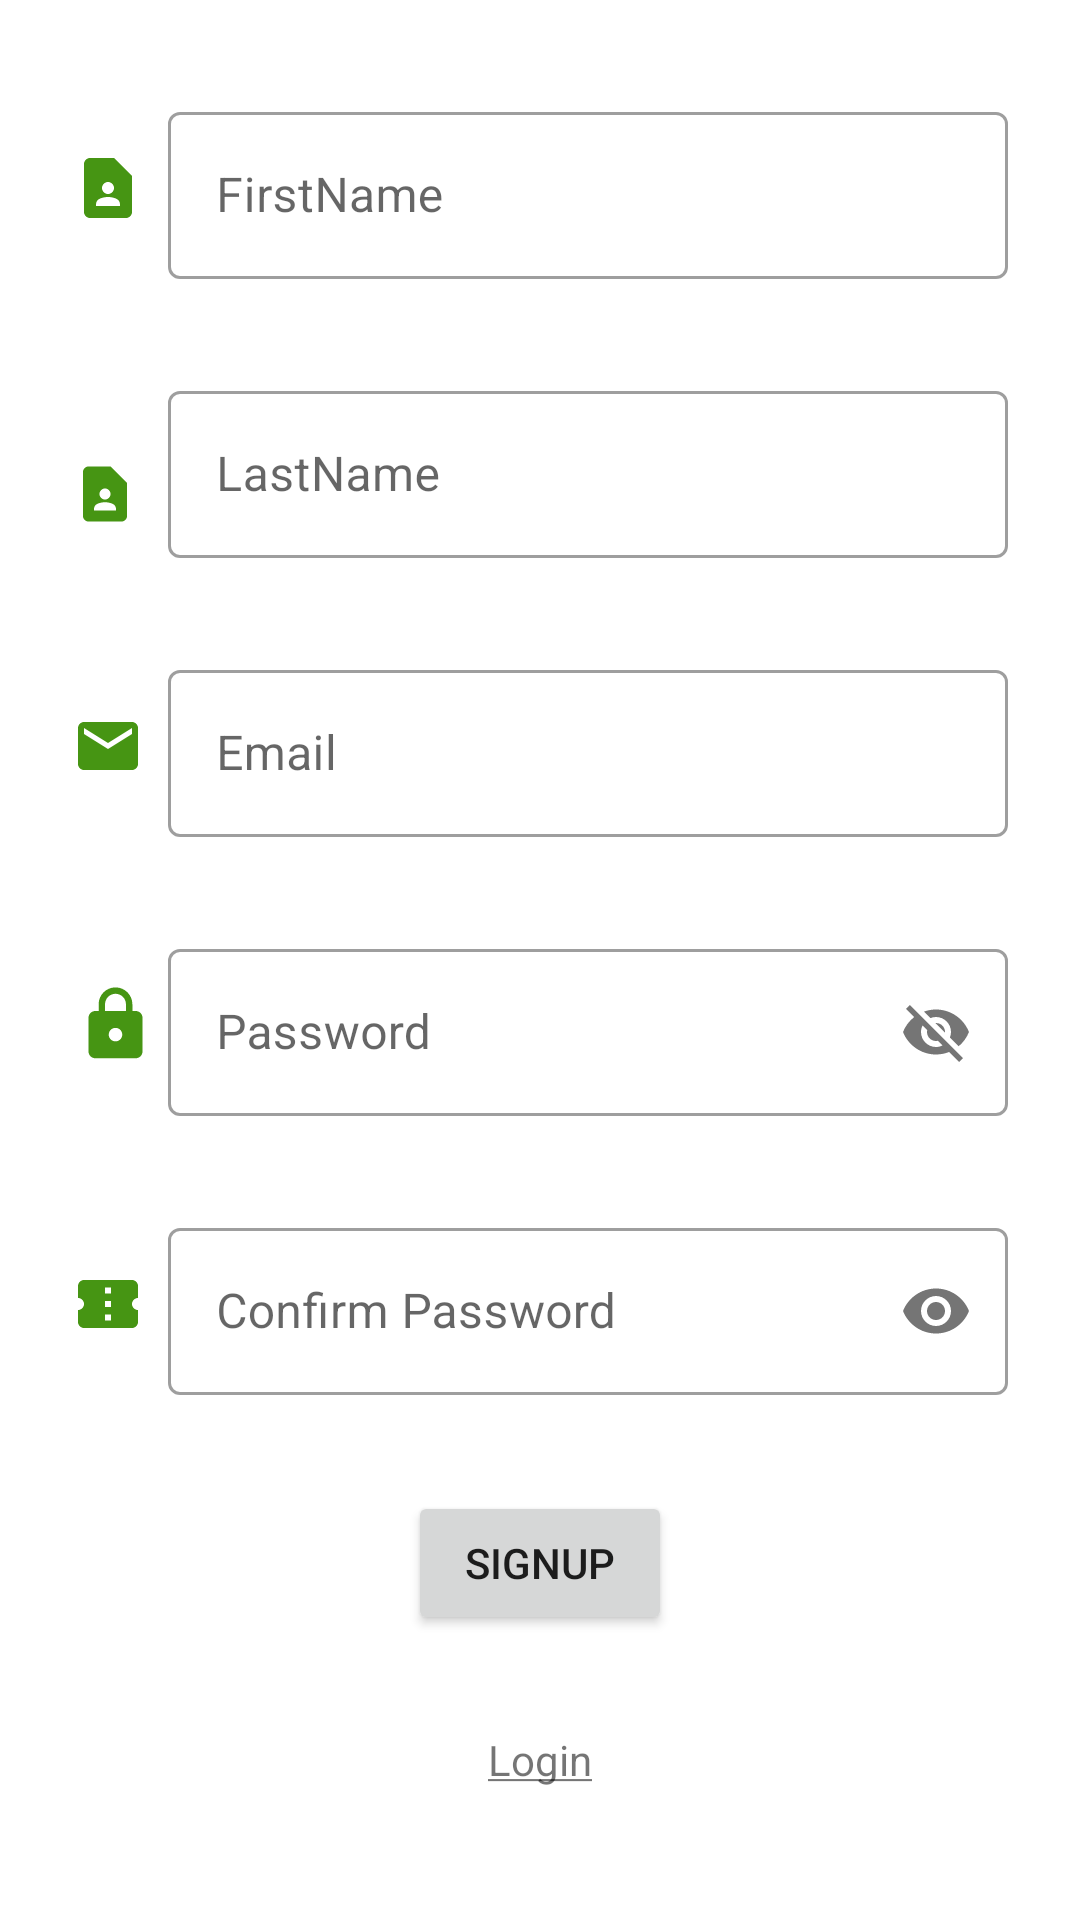

Icon click points for this 1080*1920 phone screenshot, format point (x, y):
confirmation number: point (108, 1304)
contact page: point (108, 188), point (105, 494)
lock: point (115, 1023)
